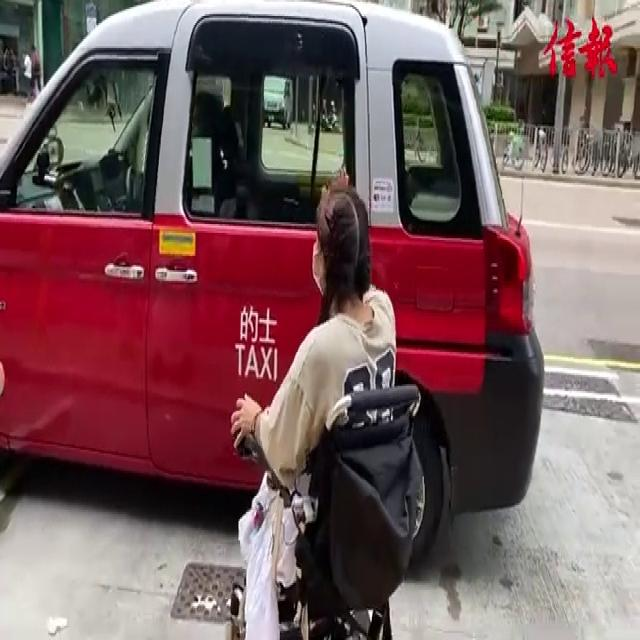wheelchairs: (214, 332, 440, 640)
